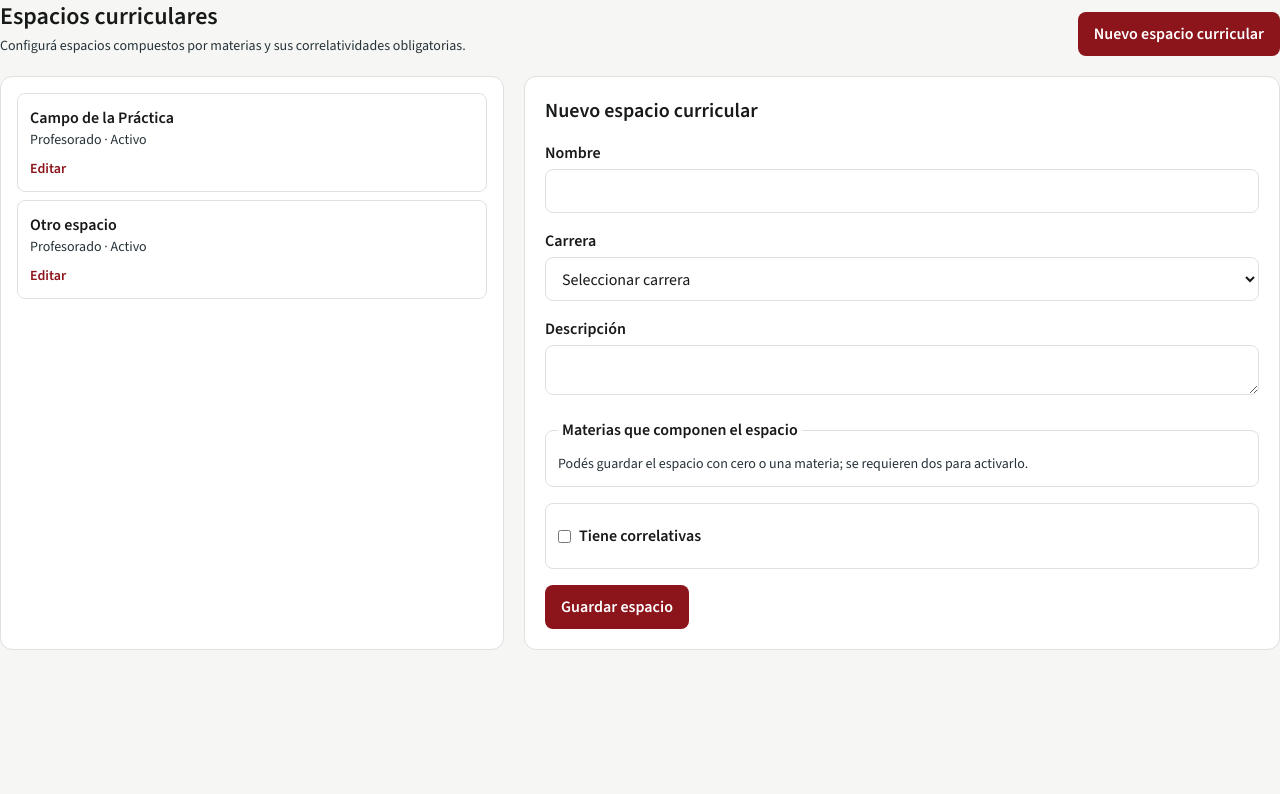
Test: SpacesAdminPanel Prisma response compatibility › keeps the edited space components selected and hides components assigned to another space
This screenshot has width=1280, height=794.
Step 1. Click the 1st button "Editar" → (48, 169), box [30, 159, 66, 179]
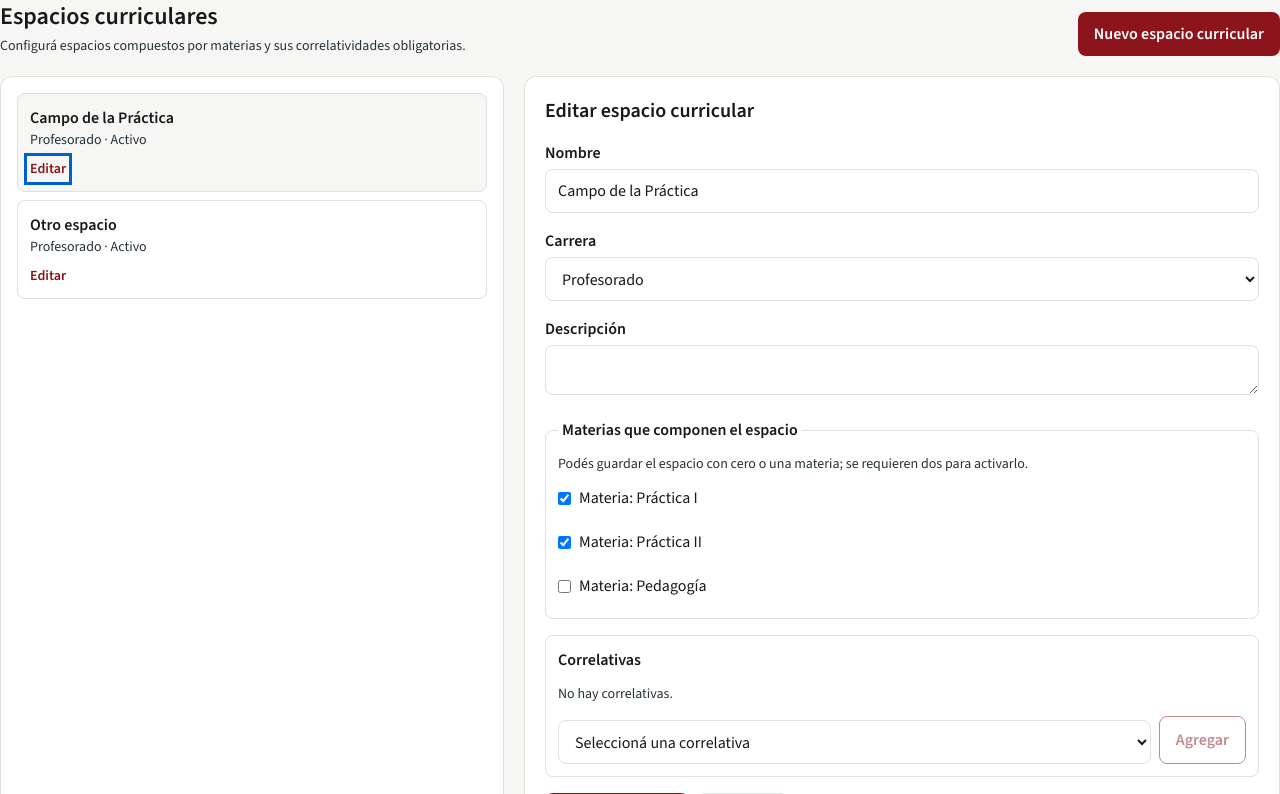
Expected: the checkbox labelled "Materia: Pedagogía" is not checked, [558, 580, 571, 592]
Result: the checkbox labelled "Materia: Práctica I" is checked at [558, 492, 571, 504]
Result: the checkbox labelled "Materia: Práctica II" is checked at [558, 536, 571, 548]
